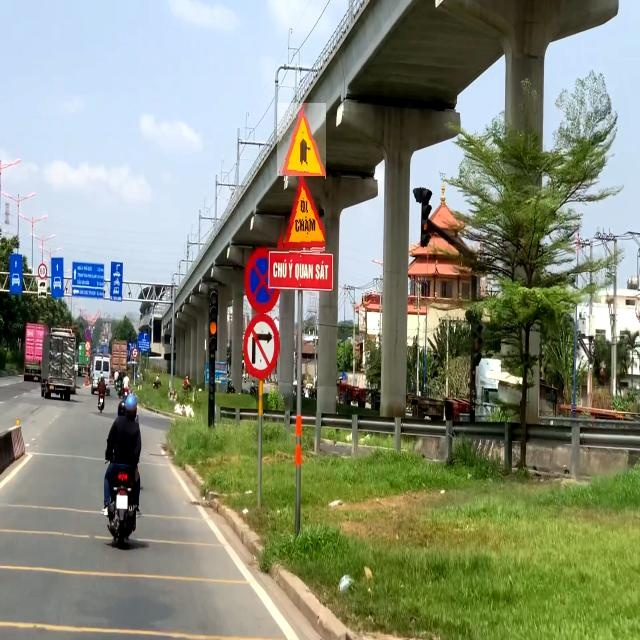bien_cam: (276, 176, 325, 255), (277, 103, 326, 179), (244, 314, 280, 380)
